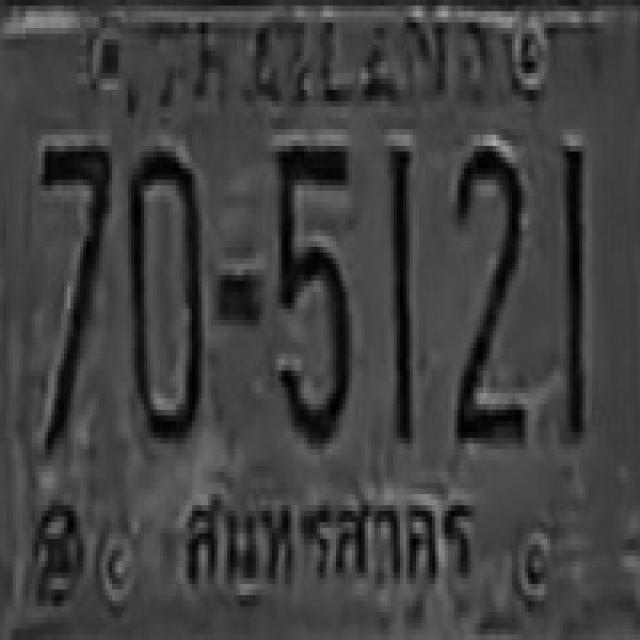0: (126, 146, 204, 443)
1: (387, 140, 413, 444), (560, 143, 582, 441)
2: (453, 140, 523, 444)
5: (274, 140, 350, 444)
7: (38, 140, 109, 449)
SamutSakhon: (179, 476, 483, 608)
